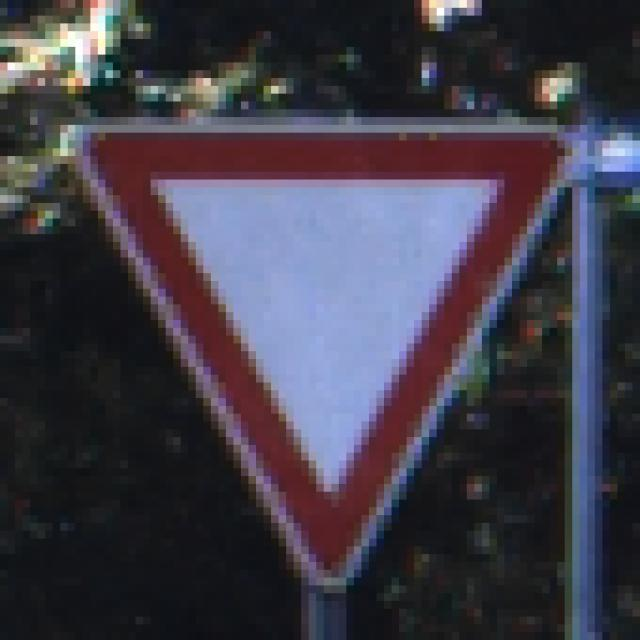Give Way: (54, 64, 581, 579)
